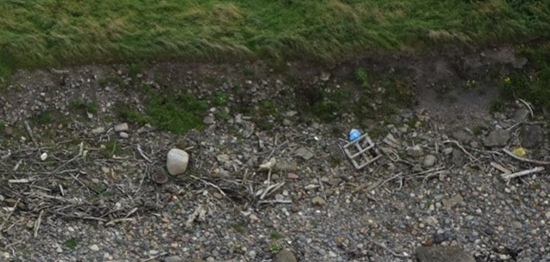cuboid: (338, 132, 384, 171)
white_in_green: (150, 133, 206, 189), (338, 116, 375, 149)
